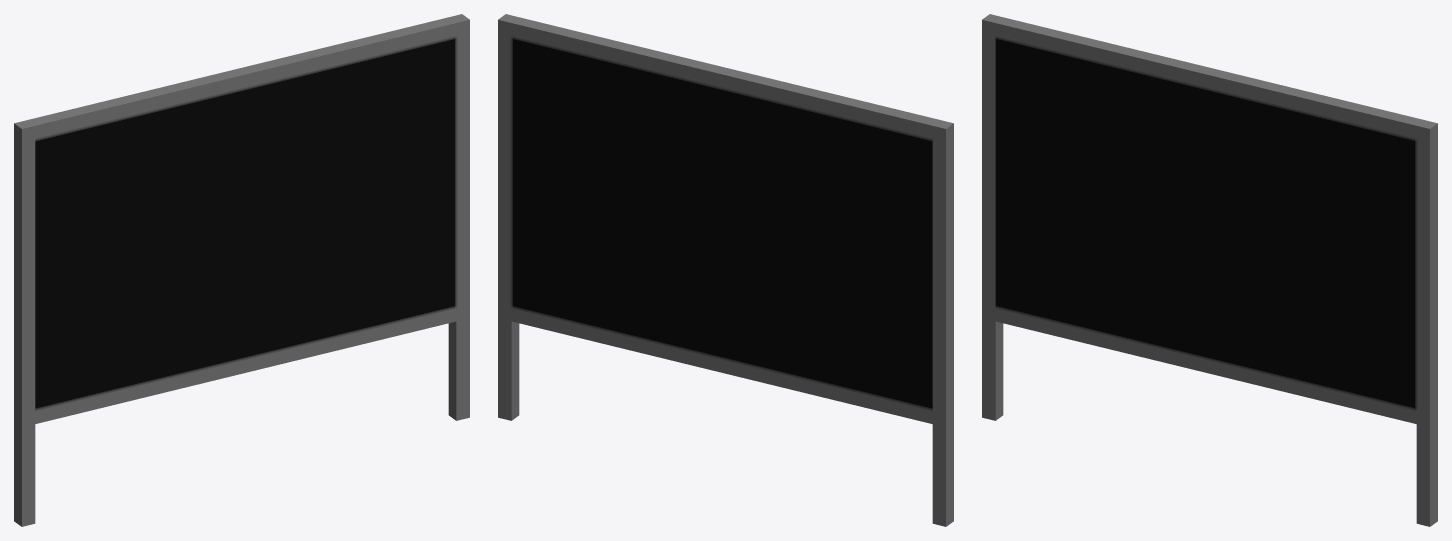
Rendered from Banner.fbx.
The picture shows the model from 3 angles, left to right: view 1: azimuth 30°, elevation 25°; view 2: azimuth 150°, elevation 25°; view 3: azimuth 330°, elevation 25°; orthographic projection.
Visible parts, largest first — view 1: pl0; view 2: pl0; view 3: pl0.
Boxes of the visible parts, <box> form: pl0: <box>14,14,469,526</box>; pl0: <box>498,14,953,526</box>; pl0: <box>982,14,1437,526</box>.
Bounding box in the file's own units: 33 × 28 × 1.
Materials: 1 (1 with a texture image).
